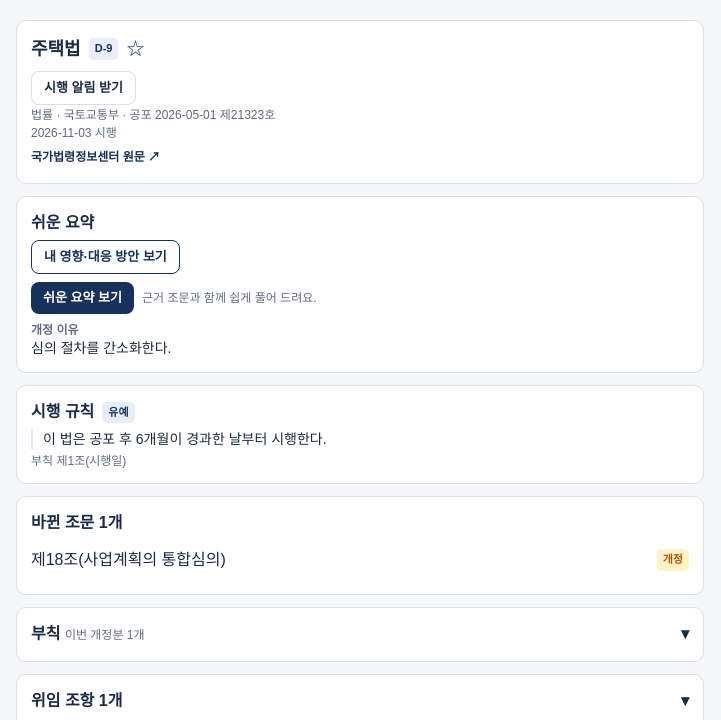
Test: LawDetailView › 개정 이유·시행 규칙·위임 조항 안내
expect the text "심의 절차를 간소화한다." is shown: met, box [31, 340, 172, 356]
expect the text "유예" is shown: met, box [102, 402, 135, 423]
What coordinates should you click on to do the following:
click the button "위임 조항 1개 ▾"
I would click on:
 (65, 701)
Its box is [31, 689, 689, 714].
(page scrolled)
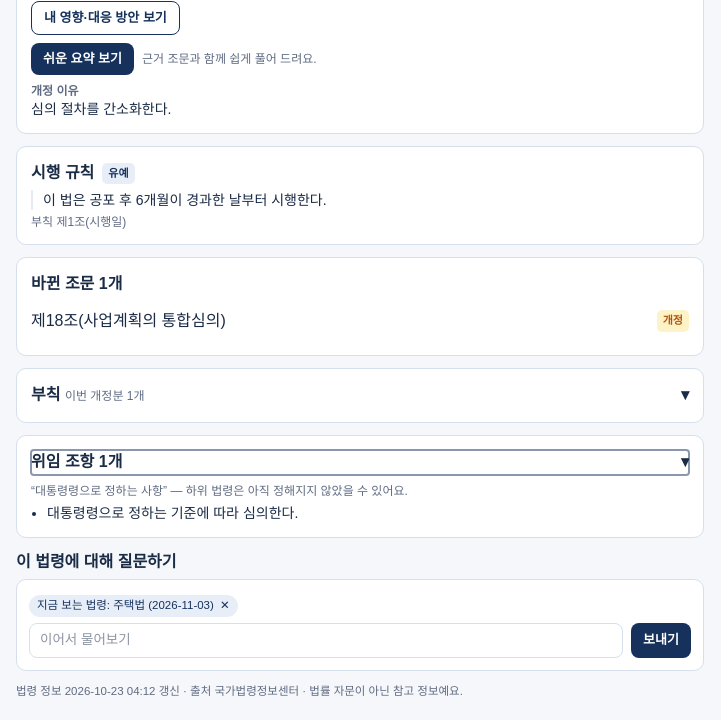
expect the list item "대통령령으로 정하는 기준에 따라 심의한다." is shown: met, box [47, 505, 298, 521]
